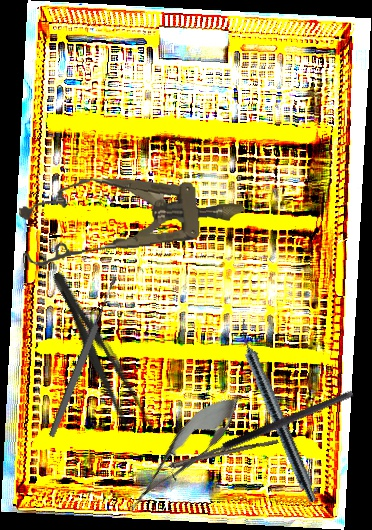Dressing Forceps: (42, 266, 160, 444)
Handpiece: (230, 317, 323, 505)
Hook Surgical: (168, 388, 358, 483)
Micro Scissor: (113, 380, 253, 527)
Speculum: (16, 165, 248, 271)
Surgical Spoon: (46, 274, 121, 440), (133, 436, 279, 479)
